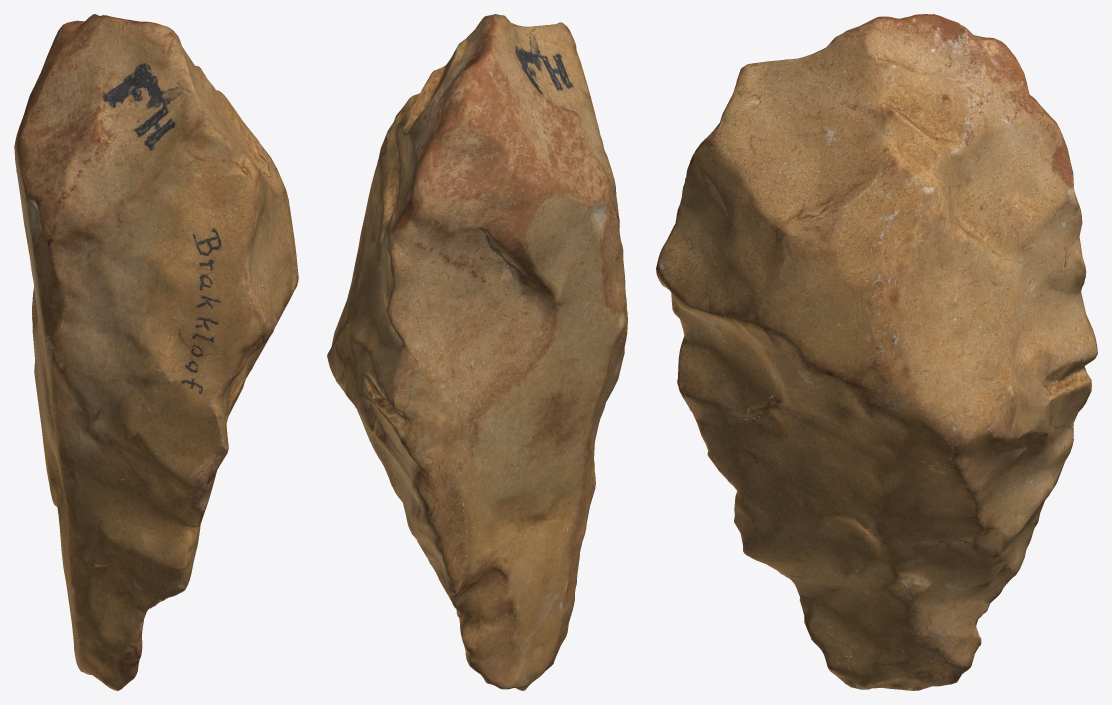
File: acheulean_hand_axe_lo.glb
3 renders of one model, left to right at view 1: azimuth 30°, elevation 25°; view 2: azimuth 150°, elevation 25°; view 3: azimuth 270°, elevation 25°, orthographic. The views are drawn at different scales.
Visible parts, largest first — view 1: FLOOR_1_LPobjcleanermaterialmergergles; view 2: FLOOR_1_LPobjcleanermaterialmergergles; view 3: FLOOR_1_LPobjcleanermaterialmergergles.
Boxes of the visible parts, x1,y1,x2,y2 form: FLOOR_1_LPobjcleanermaterialmergergles: (14,14,298,690); FLOOR_1_LPobjcleanermaterialmergergles: (327,14,627,690); FLOOR_1_LPobjcleanermaterialmergergles: (656,14,1097,690).
Bounding box in the file's own units: 0.0663 × 0.1693 × 0.0971.
3 materials, 3 textured.
